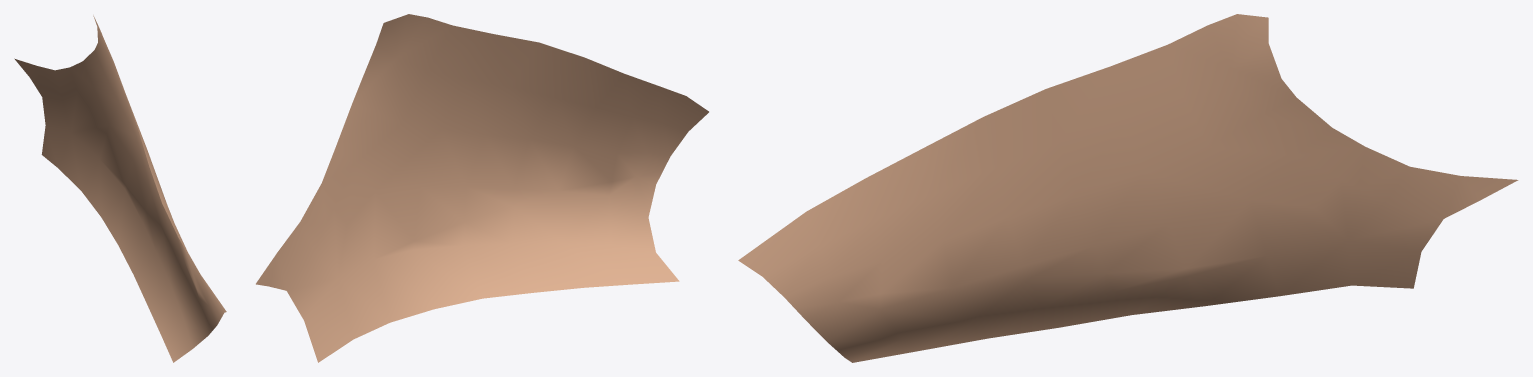
The model's file is medial-border-of-foot-r.glb.
3 renders of one model, left to right at view 1: azimuth 30°, elevation 25°; view 2: azimuth 150°, elevation 25°; view 3: azimuth 270°, elevation 25°, orthographic. The views are drawn at different scales.
Parts seen in each view (by area): view 1: Medial border of foot.r; view 2: Medial border of foot.r; view 3: Medial border of foot.r.
Boxes of the visible parts, x1,y1,x2,y2 form: Medial border of foot.r: (14, 15, 226, 362); Medial border of foot.r: (256, 14, 708, 362); Medial border of foot.r: (738, 14, 1518, 362).
Bounding box in the file's own units: 0.0188 × 0.0714 × 0.1315.
